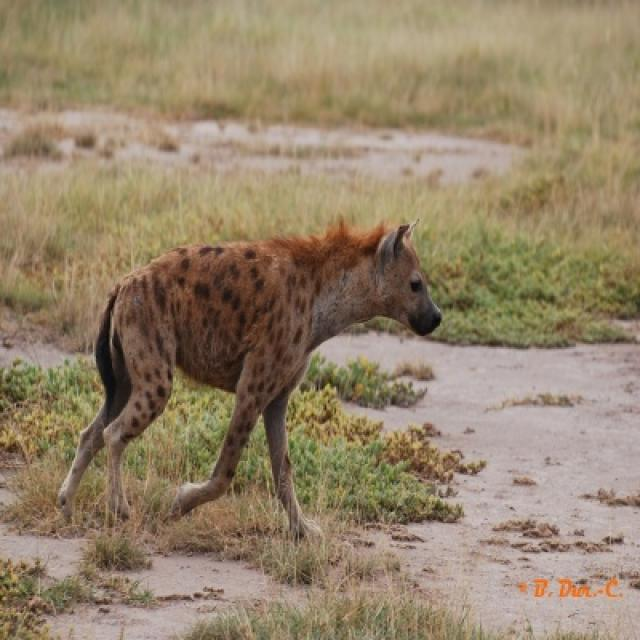hyena: (56, 221, 443, 541)
